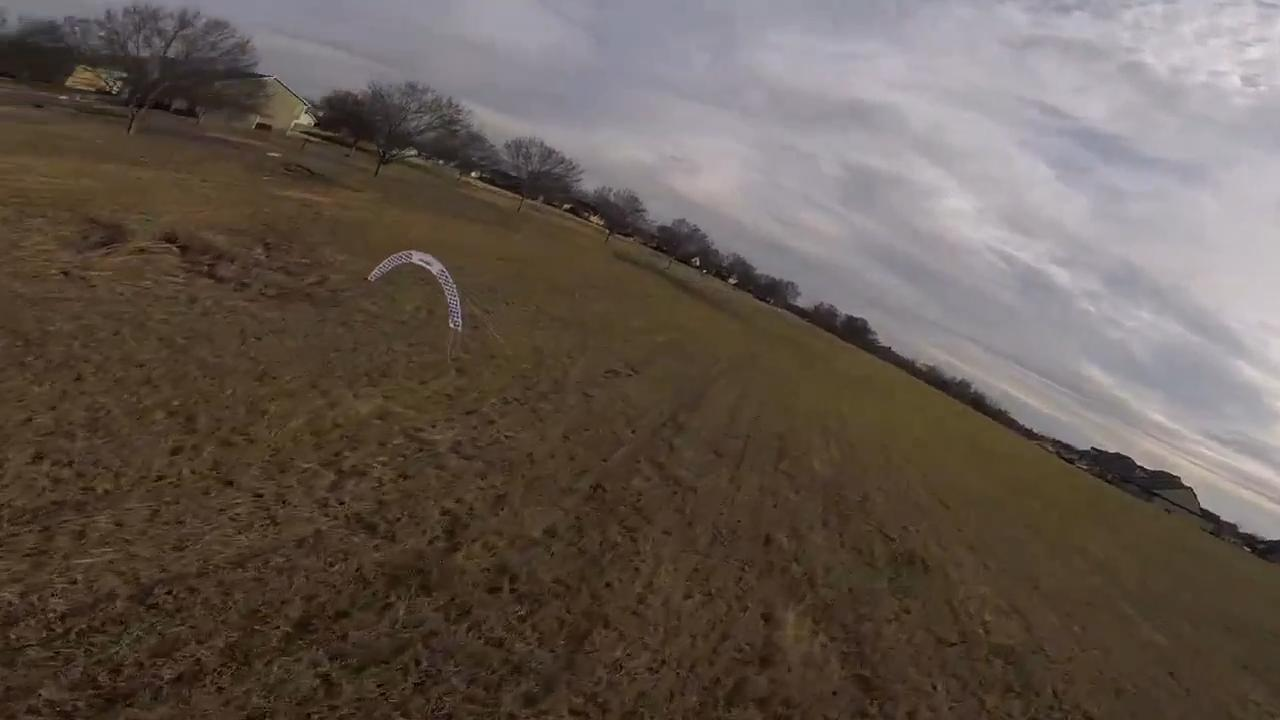gate: (368, 248, 460, 338)
